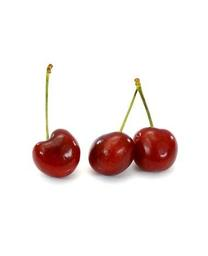cherry: (31, 129, 81, 179), (87, 132, 135, 177), (132, 127, 177, 172)
